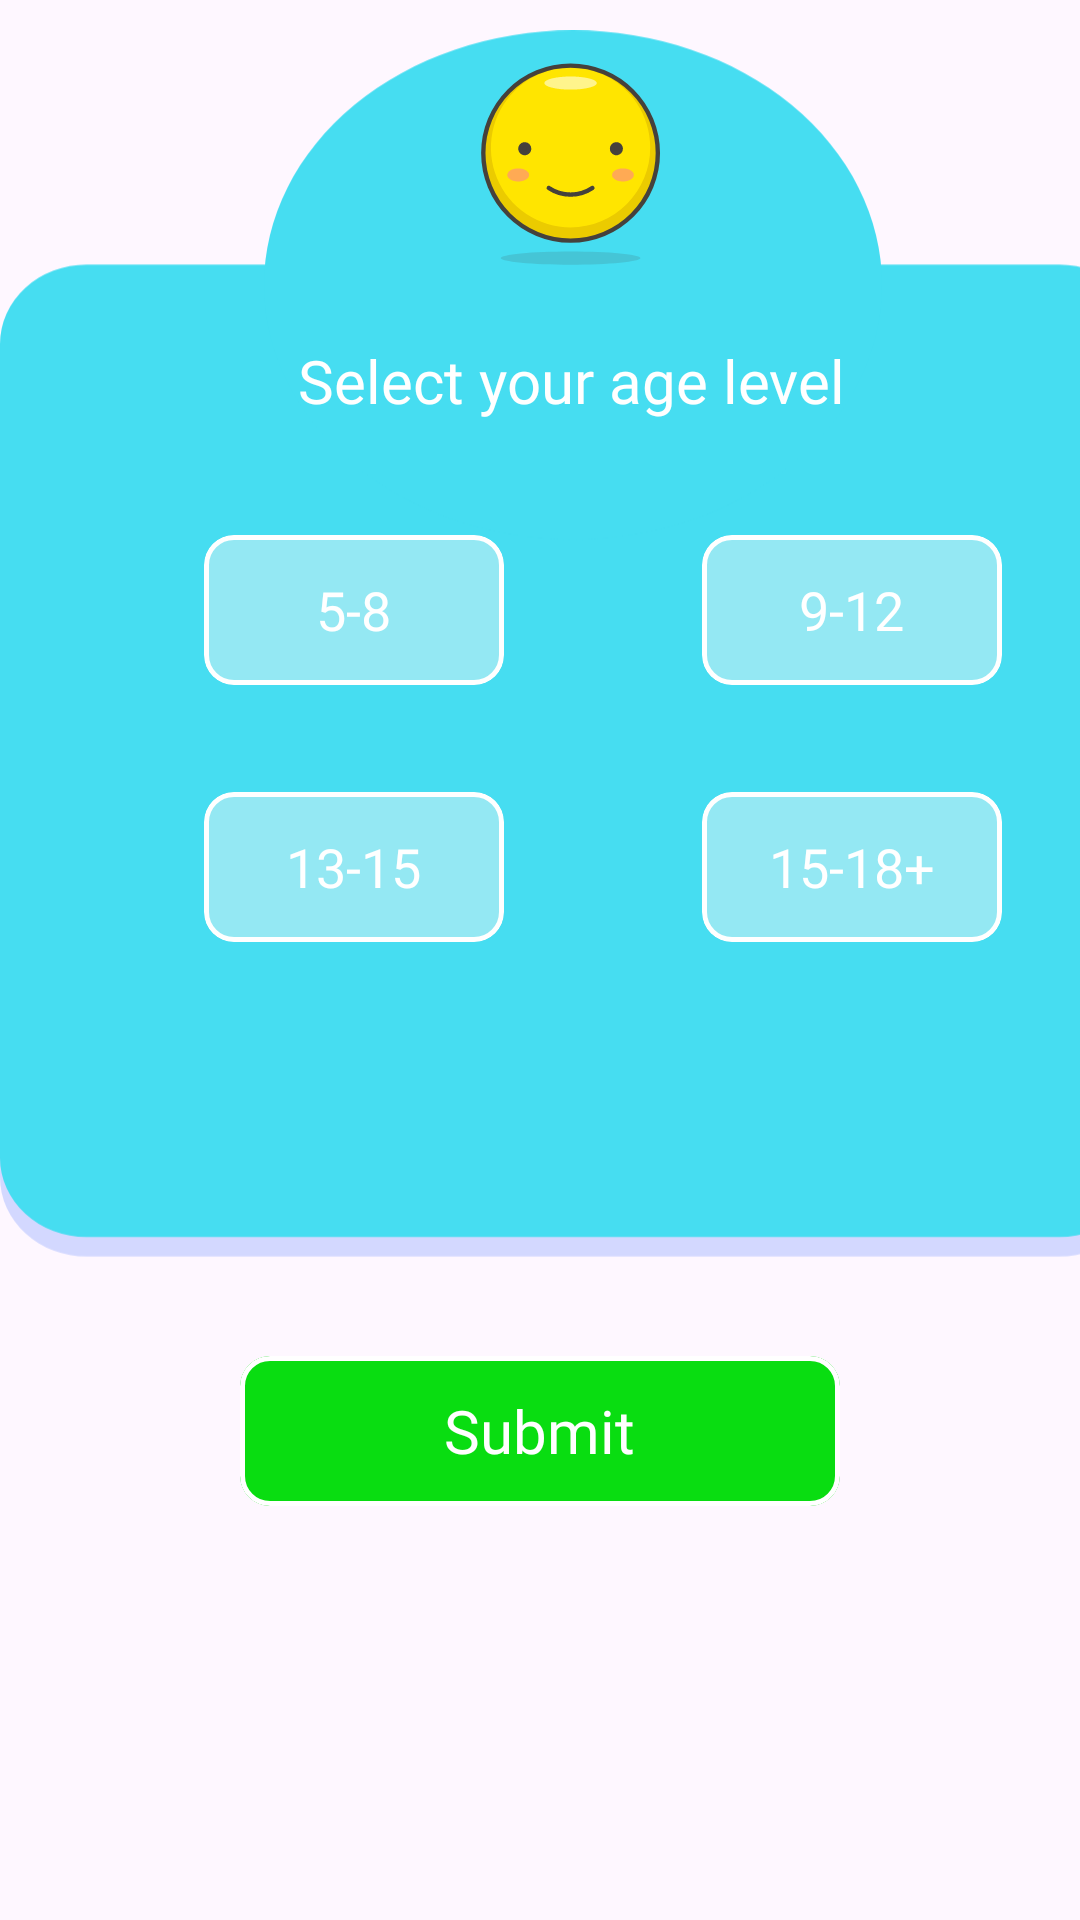

Point at icon controls on the screen. Image size 1080px x 1920px, points as (x,y).
smiley face: (570,163)
